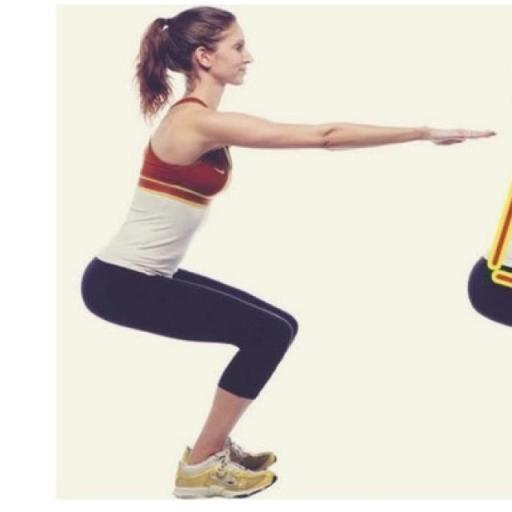Normal_JumpingJacks: (2, 1, 505, 511)
